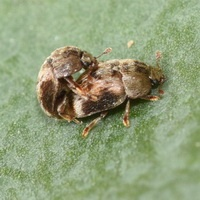insect: (37, 46, 164, 135)
